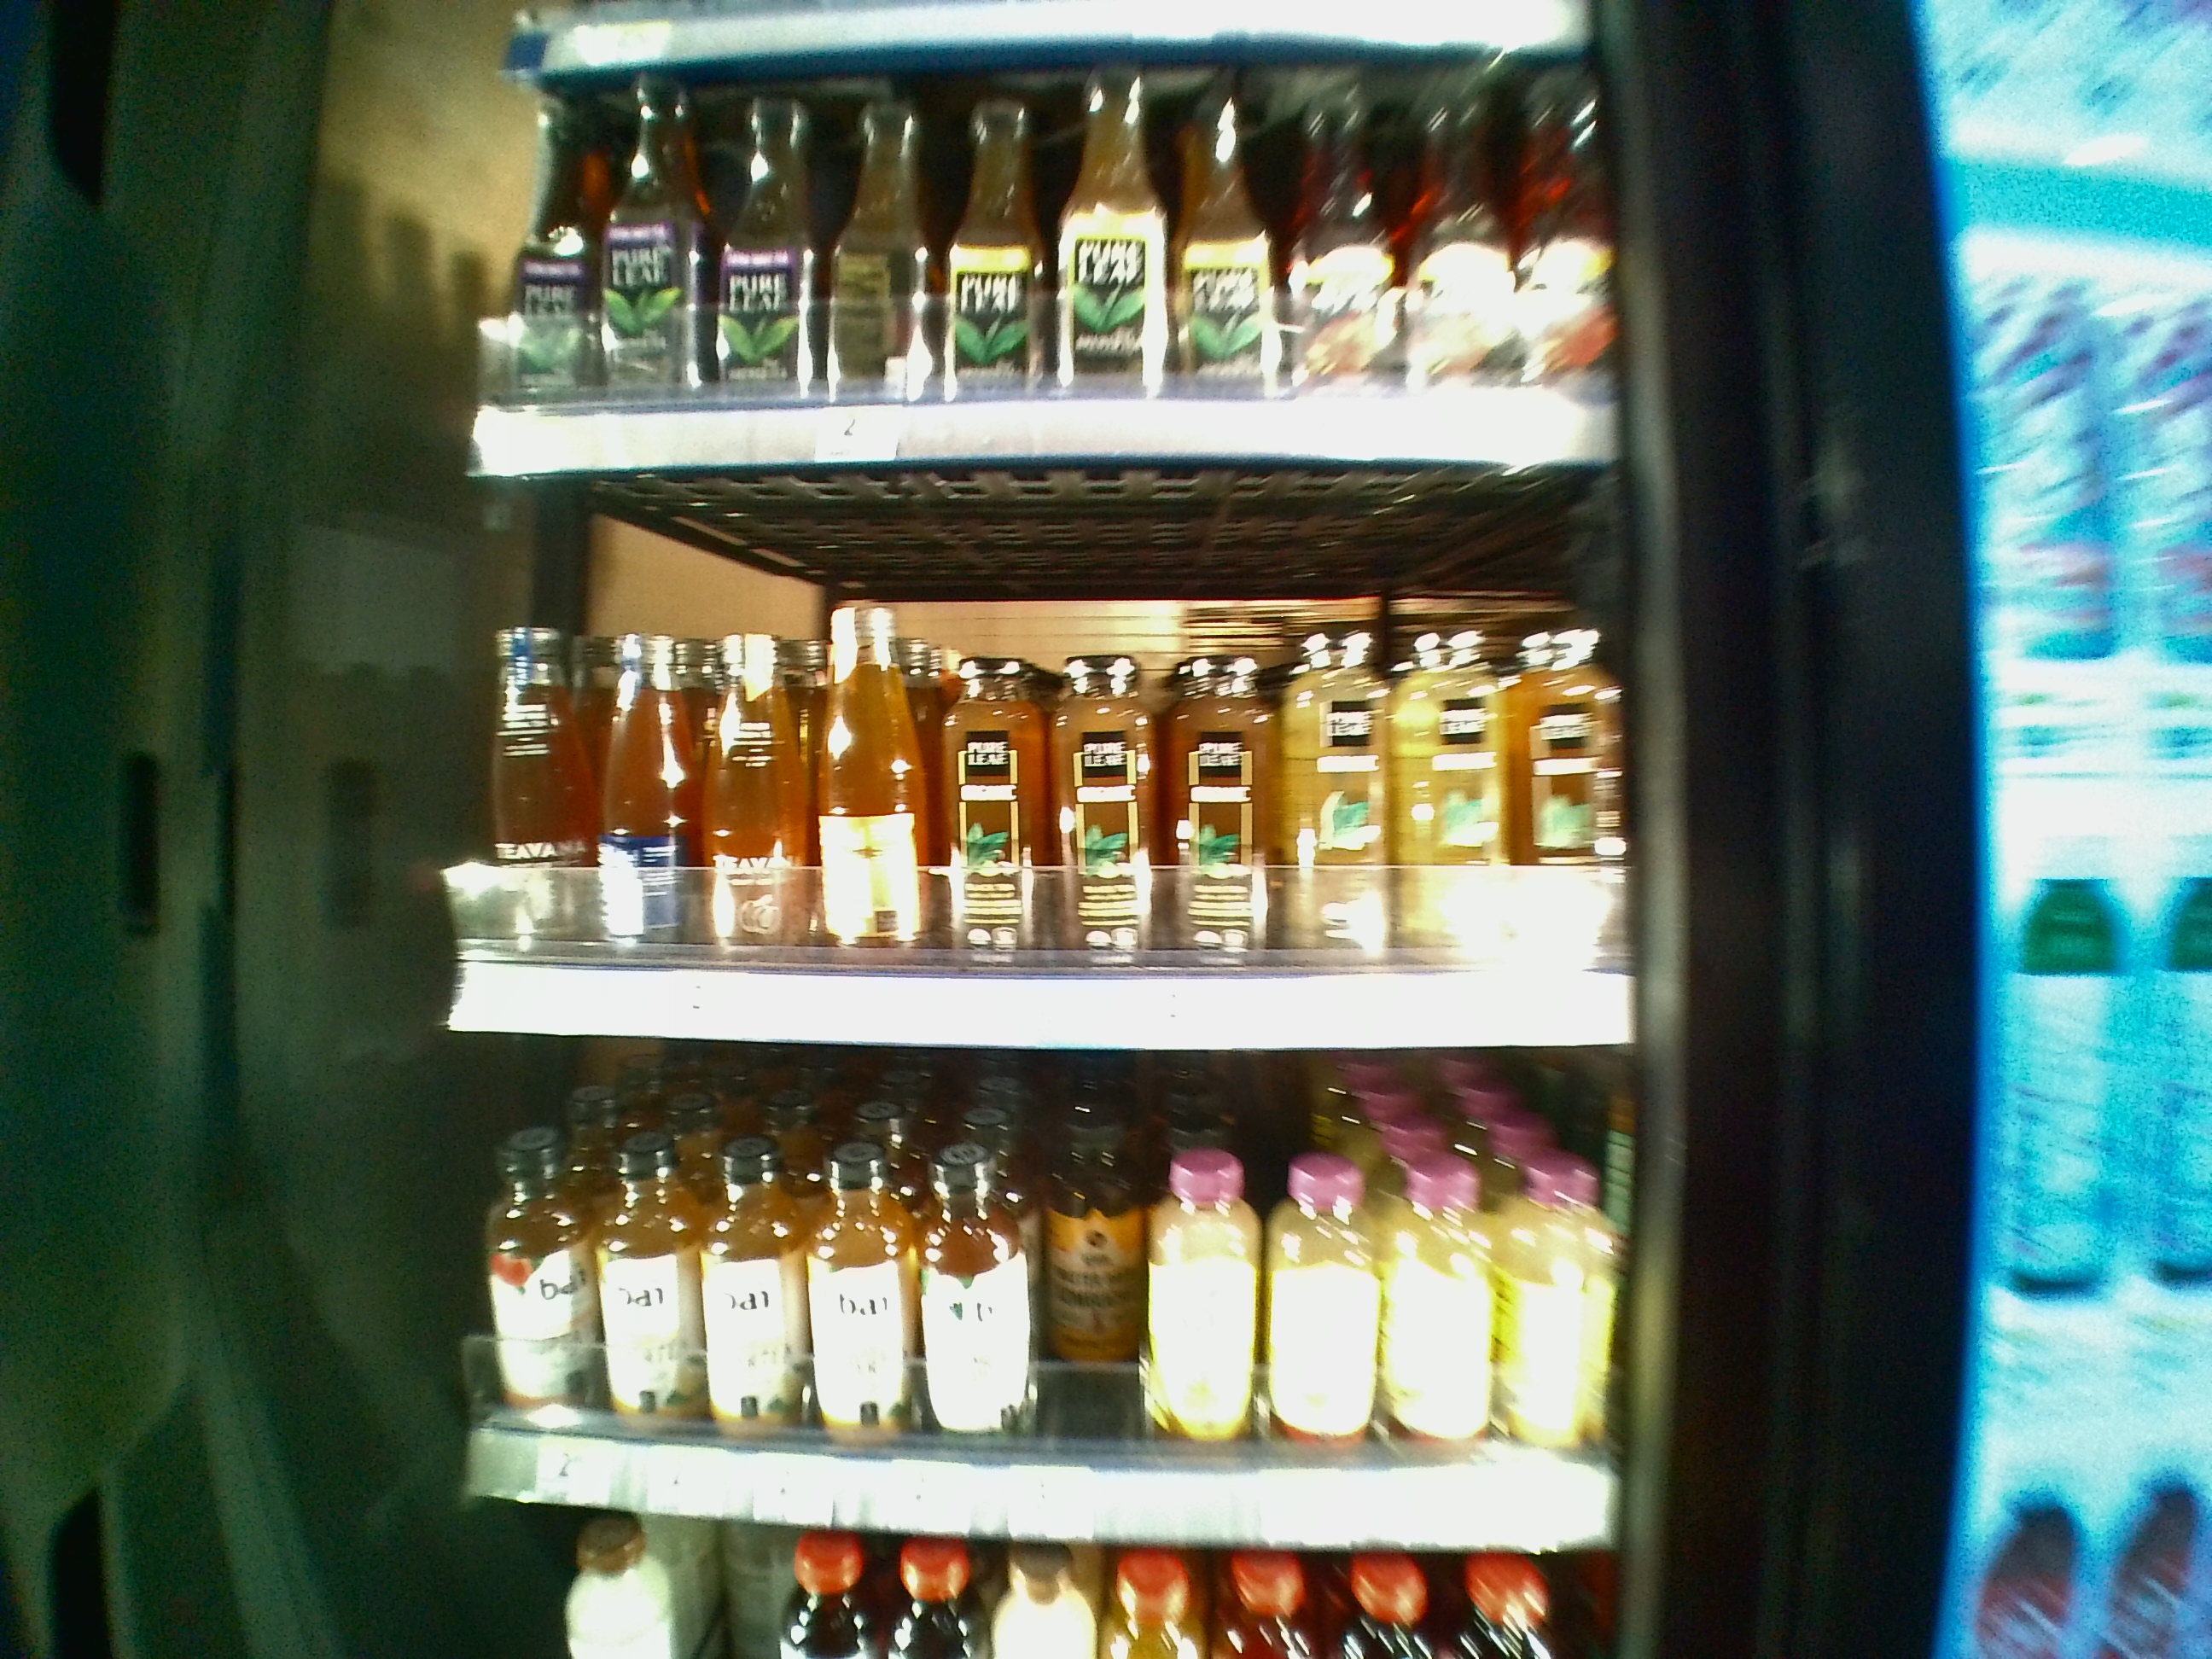shelf: (444, 488, 1644, 1042), (441, 1054, 1629, 1560), (456, 68, 1616, 476)
